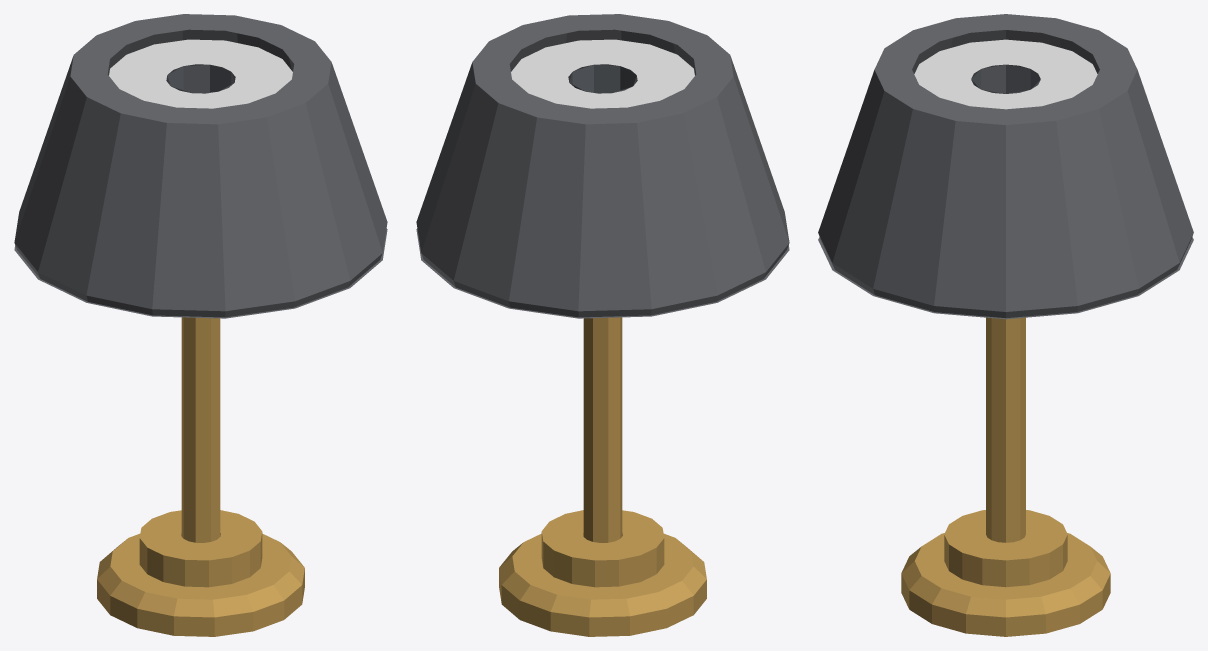
File: FN_Lamp_Table.fbx
3 renders of one model, left to right at view 1: azimuth 30°, elevation 25°; view 2: azimuth 150°, elevation 25°; view 3: azimuth 270°, elevation 25°, orthographic.
Parts seen in each view (by area): view 1: FN_Lamp_Table; view 2: FN_Lamp_Table; view 3: FN_Lamp_Table.
Boxes of the visible parts, bbox=[...] form: FN_Lamp_Table: bbox=[14, 14, 387, 636]; FN_Lamp_Table: bbox=[416, 14, 789, 636]; FN_Lamp_Table: bbox=[818, 14, 1193, 636].
Bounding box in the file's own units: 28 × 43 × 28.
Materials: 2 (1 with a texture image).
